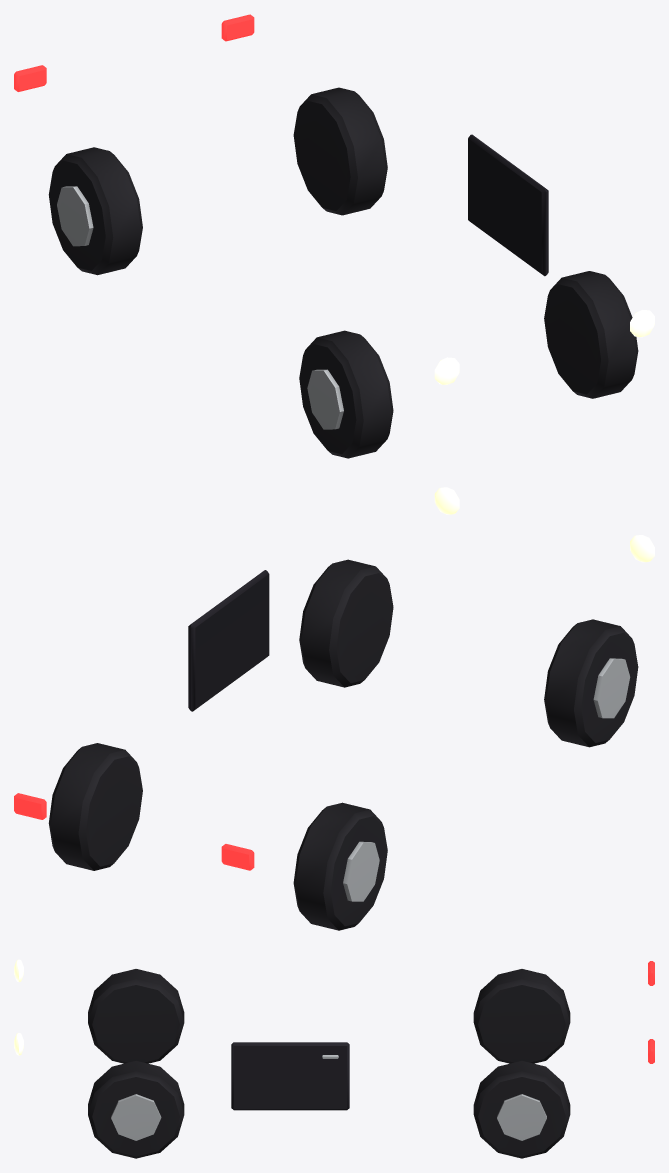
The model's file is veh_hearse_lod1.glb.
The picture shows the model from 3 angles, top to bottom: view 1: azimuth 30°, elevation 25°; view 2: azimuth 150°, elevation 25°; view 3: azimuth 270°, elevation 25°; orthographic projection. The views are drawn at different scales.
Visible parts, largest first — view 1: wheel_RR, wheel_FR, wheel_RL, wheel_FL, door, glow; view 2: wheel_RR, wheel_RL, wheel_FL, wheel_FR, door, glow; view 3: door, wheel_RL, wheel_FL, wheel_RR, wheel_FR, glow.
Part boxes in pixels (x1,y1,x2,y2): wheel_RR: [48, 147, 142, 275]; wheel_FR: [299, 330, 393, 458]; wheel_RL: [293, 87, 387, 215]; wheel_FL: [544, 271, 638, 398]; door: [468, 134, 548, 276]; glow: [14, 14, 654, 384]; wheel_RR: [293, 802, 387, 930]; wheel_RL: [48, 743, 142, 870]; wheel_FL: [299, 559, 393, 687]; wheel_FR: [544, 619, 638, 747]; door: [188, 570, 269, 711]; glow: [14, 487, 654, 870]; door: [231, 1042, 349, 1110]; wheel_RL: [473, 1061, 570, 1158]; wheel_FL: [88, 1061, 184, 1158]; wheel_RR: [473, 969, 570, 1063]; wheel_FR: [88, 969, 184, 1063]; glow: [14, 959, 654, 1063].
Size of what is drawn, in the model's own units: 1.88 by 0.94 by 4.65.
